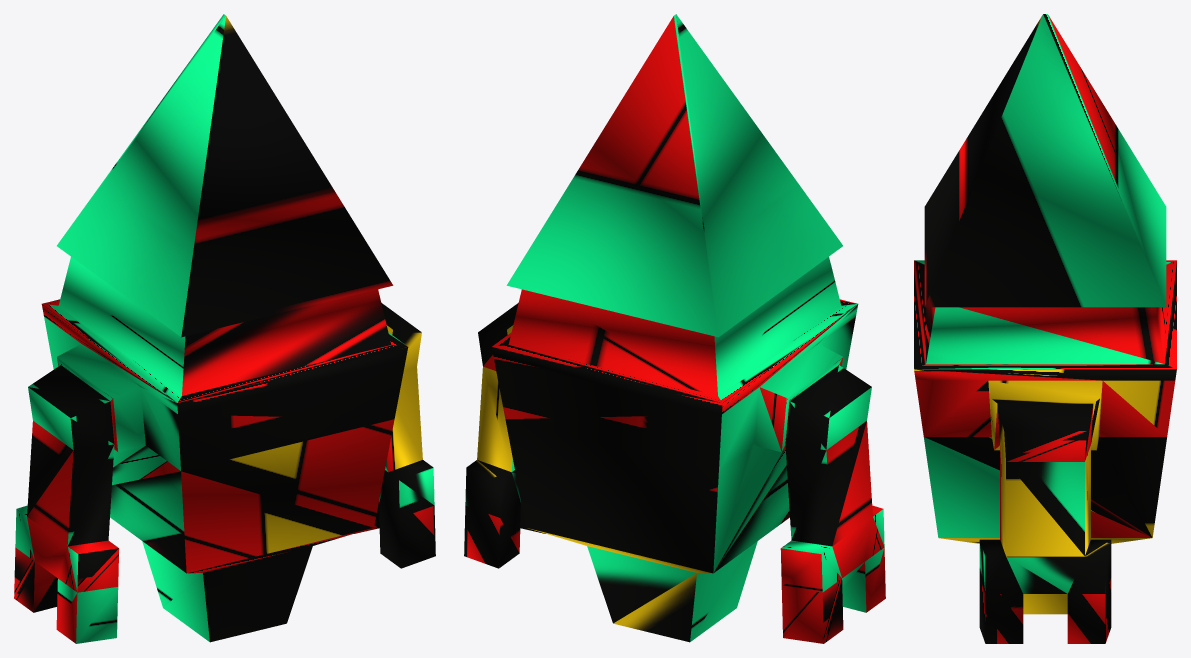
Rendered from char02.fbx.
3 views of the same model, side by side, from view 1: azimuth 30°, elevation 25°; view 2: azimuth 150°, elevation 25°; view 3: azimuth 270°, elevation 25° (orthographic). The views are drawn at different scales.
Parts seen in each view (by area): view 1: Box08; view 2: Box08; view 3: Box08.
Boxes of the visible parts, x1,y1,x2,y2 form: Box08: [14, 14, 435, 643]; Box08: [464, 14, 885, 643]; Box08: [914, 14, 1176, 643].
Size of the model in its own units: 30.13 by 48.09 by 19.69.
